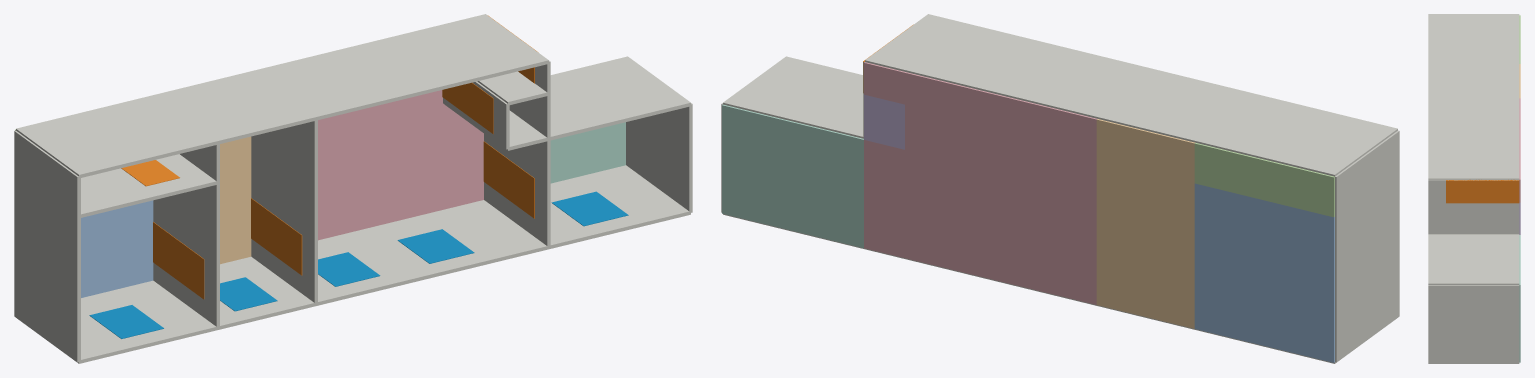
Rendered from plan-3d.obj.
The picture shows the model from 3 angles, left to right: view 1: azimuth 30°, elevation 25°; view 2: azimuth 150°, elevation 25°; view 3: azimuth 270°, elevation 25°; orthographic projection. The views are drawn at different scales.
Parts seen in each view (by area): view 1: floor_room_living, wall_17, wall_11, wall_03, wall_05, wall_08, wall_21, wall_09, floor_room_bedroom, wall_19, wall_00, wall_01 (+23 smaller); view 2: floor_room_living, floor_room_bedroom, floor_room_kitchen, floor_room_office, wall_17, wall_03, wall_05, wall_21, wall_09, floor_room_bathroom, wall_06, floor_room_wc; view 3: wall_17, wall_20, wall_21, wall_05, wall_09, wall_18, opening_door_main_entrance, wall_16, floor_room_office, floor_room_living, floor_room_bathroom, wall_19.
Part boxes in pixels (bbox=[...]): floor_room_living: bbox=[318, 90, 483, 240]; wall_17: bbox=[253, 14, 548, 119]; wall_11: bbox=[316, 200, 548, 305]; wall_03: bbox=[14, 171, 80, 362]; wall_05: bbox=[16, 94, 218, 177]; wall_08: bbox=[251, 118, 317, 304]; wall_21: bbox=[549, 56, 690, 140]; wall_09: bbox=[155, 71, 316, 143]; floor_room_bedroom: bbox=[81, 200, 153, 297]; wall_19: bbox=[549, 165, 690, 249]; wall_00: bbox=[18, 280, 218, 363]; wall_01: bbox=[153, 182, 219, 327]; floor_room_living: bbox=[864, 62, 1097, 304]; floor_room_bedroom: bbox=[1194, 183, 1334, 362]; floor_room_kitchen: bbox=[1096, 119, 1195, 328]; floor_room_office: bbox=[722, 104, 863, 247]; wall_17: bbox=[865, 14, 1160, 118]; wall_03: bbox=[1335, 171, 1399, 362]; wall_05: bbox=[1195, 94, 1397, 176]; wall_21: bbox=[723, 56, 863, 138]; wall_09: bbox=[1097, 71, 1258, 142]; floor_room_bathroom: bbox=[1194, 143, 1334, 217]; wall_06: bbox=[1335, 130, 1399, 216]; floor_room_wc: bbox=[864, 94, 904, 149]; wall_17: bbox=[1428, 97, 1519, 179]; wall_20: bbox=[1428, 285, 1519, 363]; wall_21: bbox=[1428, 234, 1519, 284]; wall_05: bbox=[1428, 14, 1519, 62]; wall_09: bbox=[1428, 62, 1519, 96]; wall_18: bbox=[1428, 203, 1519, 234]; opening_door_main_entrance: bbox=[1446, 180, 1519, 203]; wall_16: bbox=[1428, 179, 1518, 203]; floor_room_office: bbox=[1519, 235, 1520, 362]; floor_room_living: bbox=[1519, 98, 1520, 202]; floor_room_bathroom: bbox=[1519, 15, 1520, 63]; wall_19: bbox=[1428, 363, 1519, 363].
Bounding box in the file's own units: 14.38 × 4.23 × 2.6.
